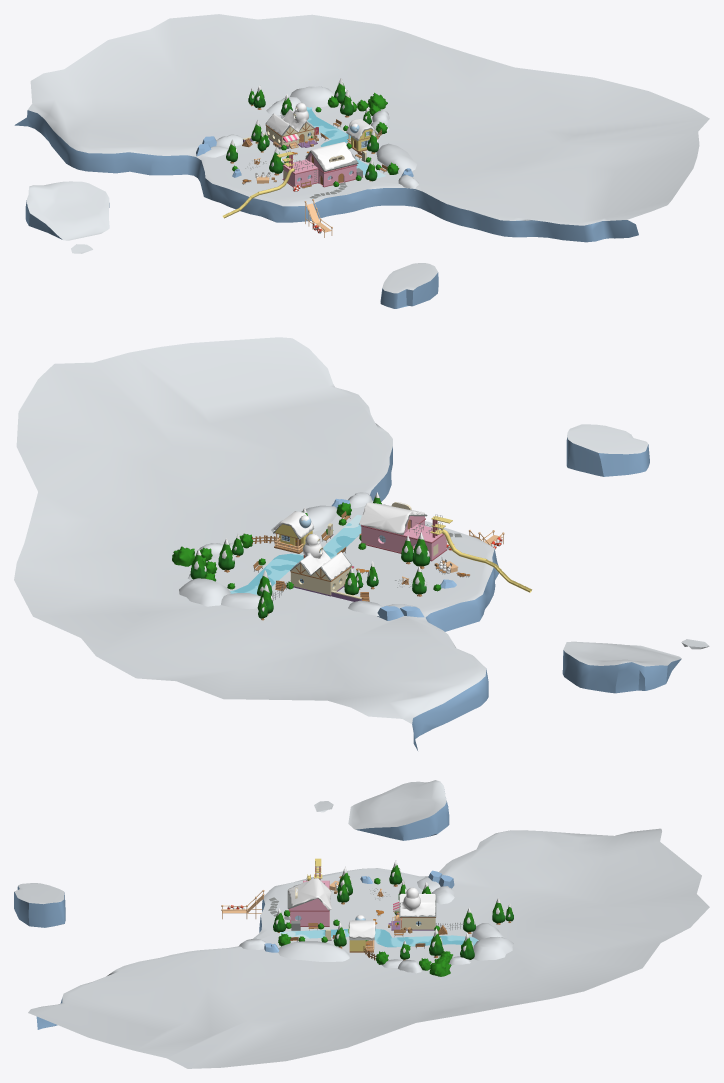
The model's file is Individual_PudgyPort_01.fbx.
3 views of the same model, one above another, from view 1: azimuth 30°, elevation 25°; view 2: azimuth 150°, elevation 25°; view 3: azimuth 270°, elevation 25° (orthographic). The views are drawn at different scales.
Parts seen in each view (by area): view 1: Berg, pasted__polySurface129, pasted__Building_FishMarket2Roofs, pasted__Object_PudgyPortRoad, pasted__SnowPatch8, pasted__SnowPatch5; view 2: Berg, pasted__polySurface129, pasted__Building_FishMarket2Roofs, pasted__Object_PudgyPortRoad, pasted__SnowPatch5, pasted__Building_FlatRooftopHouse; view 3: Berg, pasted__polySurface129, pasted__Building_FishMarket2Roofs, pasted__Object_PudgyPortRoad, pasted__SnowPatch8, pasted__SnowPatch5, pasted__Building_House_FlatRoofIgloo1.
Part boxes in pixels (x1,y1,x2,y2): Berg: (14,14,709,308); pasted__polySurface129: (222,142,358,218); pasted__Building_FishMarket2Roofs: (265,102,317,148); pasted__Object_PudgyPortRoad: (306,107,385,178); pasted__SnowPatch8: (376,143,416,172); pasted__SnowPatch5: (290,86,334,107); Berg: (14,337,709,750); pasted__polySurface129: (359,502,531,592); pasted__Building_FishMarket2Roofs: (290,534,353,596); pasted__Object_PudgyPortRoad: (230,514,361,594); pasted__SnowPatch5: (179,578,230,606); pasted__Building_FlatRooftopHouse: (273,523,314,553); Berg: (14,780,709,1068); pasted__polySurface129: (287,858,331,926); pasted__Building_FishMarket2Roofs: (388,887,436,930); pasted__Object_PudgyPortRoad: (280,928,478,947); pasted__SnowPatch8: (278,941,349,961); pasted__SnowPatch5: (473,937,513,960); pasted__Building_House_FlatRoofIgloo1: (348,915,375,939).
Bounding box in the file's own units: 11536 × 1056 × 10889.
